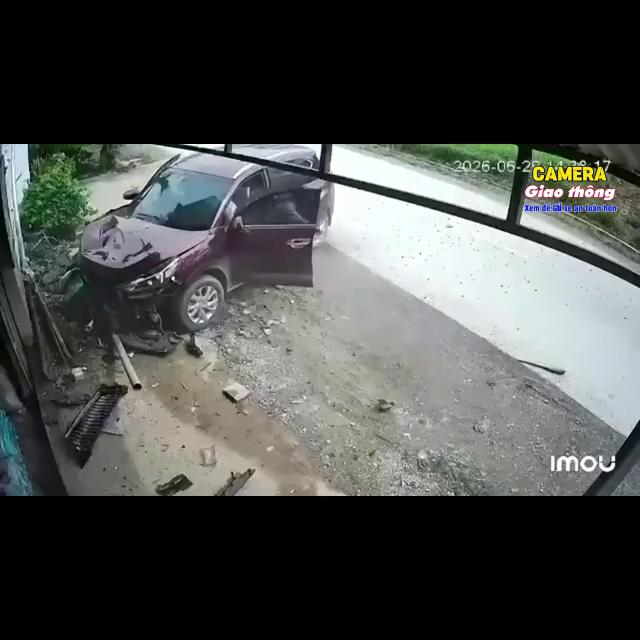car: (79, 154, 333, 331)
